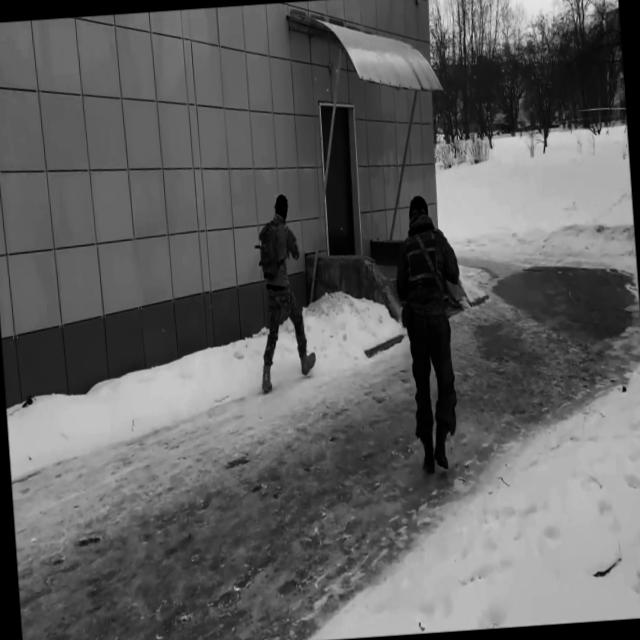person: (389, 192, 474, 474), (249, 191, 317, 394)
